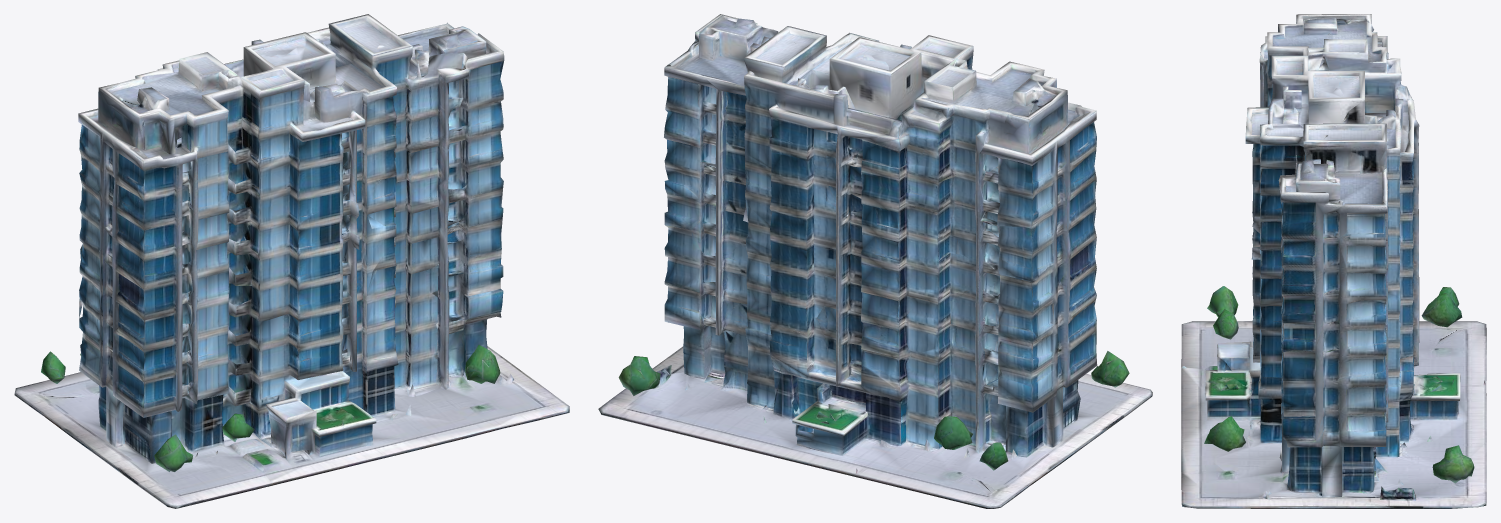
The model's file is housing.glb.
3 renders of one model, left to right at view 1: azimuth 30°, elevation 25°; view 2: azimuth 150°, elevation 25°; view 3: azimuth 270°, elevation 25°, orthographic. The views are drawn at different scales.
Visible parts, largest first — view 1: Mesh_0; view 2: Mesh_0; view 3: Mesh_0.
Part boxes in pixels (x1,y1,x2,y2): Mesh_0: (14, 14, 569, 508); Mesh_0: (598, 14, 1152, 508); Mesh_0: (1181, 14, 1486, 508).
Size of the model in its own units: 1.88 by 1.59 by 1.31.
Materials: 1 (1 with a texture image).
